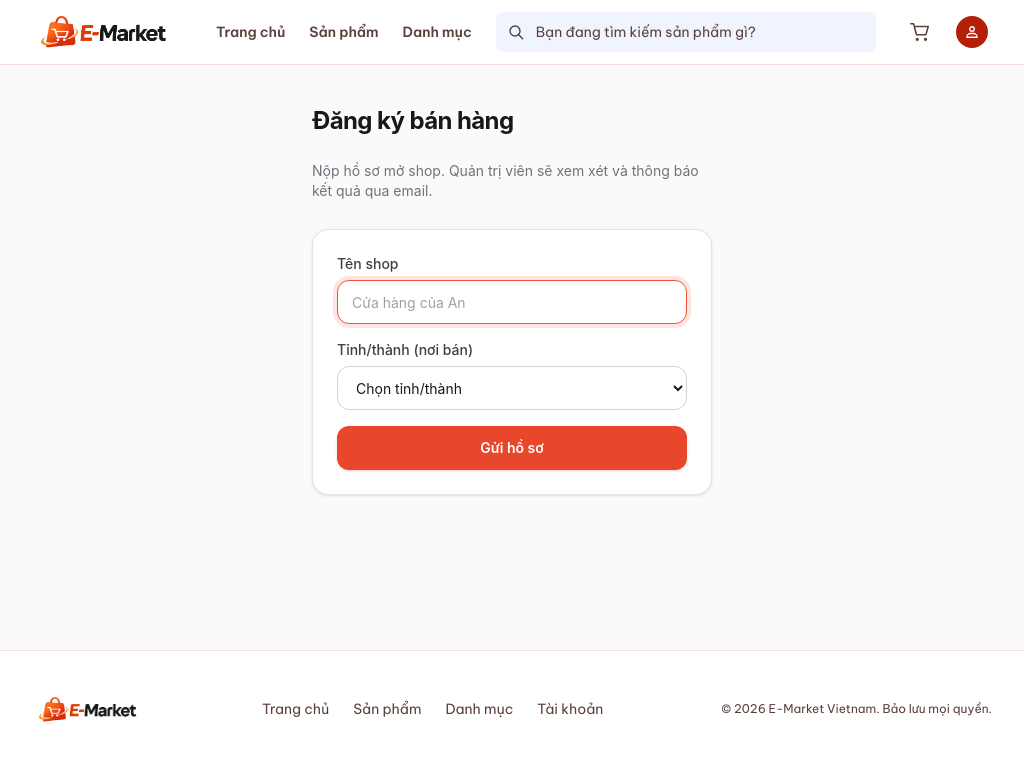
Test: Đăng ký người bán (nộp hồ sơ, chờ duyệt) › kiểm tra form trước khi gọi API
Click the button "Gửi hồ sơ" at (512, 448), box [337, 426, 687, 470]
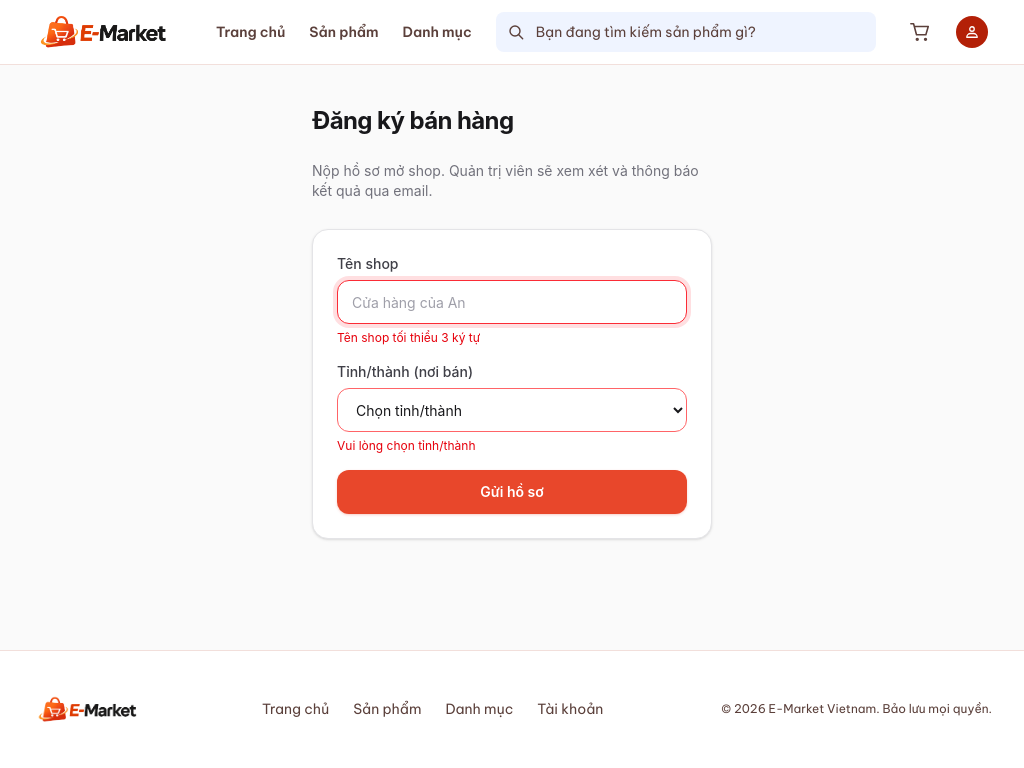
Expected: the text "Tên shop tối thiểu 3 ký tự" is shown, [337, 330, 480, 345]
Expected: the text "Vui lòng chọn tỉnh/thành" is shown, [337, 438, 476, 453]
